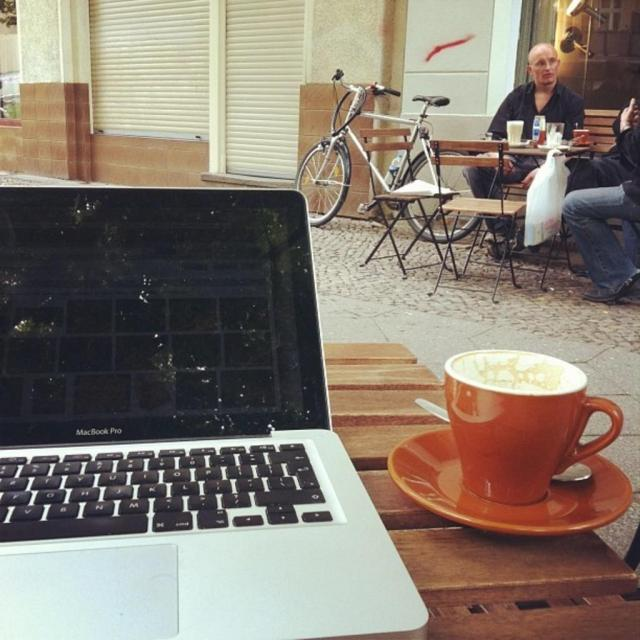cup-handle: (444, 346, 624, 504)
